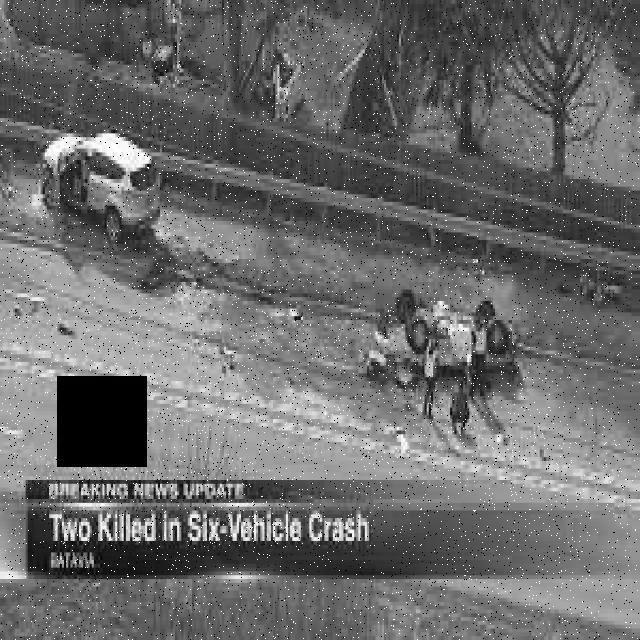accident: (367, 275, 520, 393), (37, 129, 163, 254)
